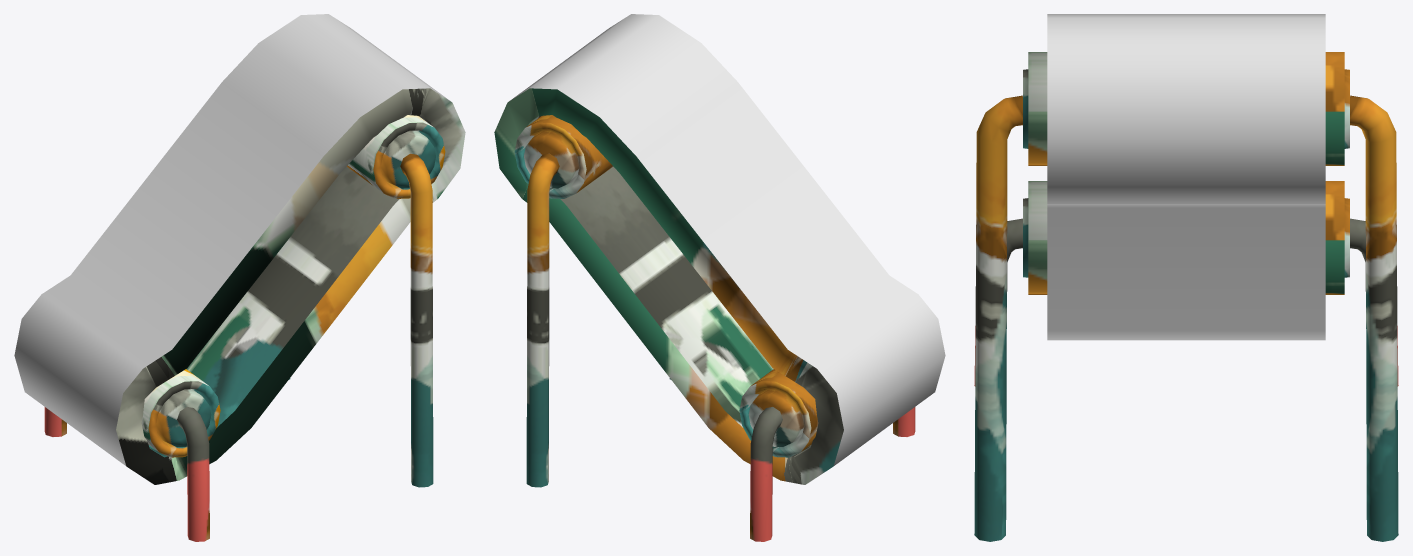
File: SmallRampConveyorBelt.fbx
3 views of the same model, side by side, from view 1: azimuth 30°, elevation 25°; view 2: azimuth 150°, elevation 25°; view 3: azimuth 270°, elevation 25° (orthographic). The views are drawn at different scales.
Visible parts, largest first — view 1: SmallRampConveyorBelt; view 2: SmallRampConveyorBelt; view 3: SmallRampConveyorBelt.
Part boxes in pixels (box(x1,y1,x2,y2)): SmallRampConveyorBelt: box(14, 14, 465, 541); SmallRampConveyorBelt: box(494, 14, 945, 541); SmallRampConveyorBelt: box(974, 14, 1398, 541).
Size of the model in its own units: 2.8 by 2.89 by 2.15.
